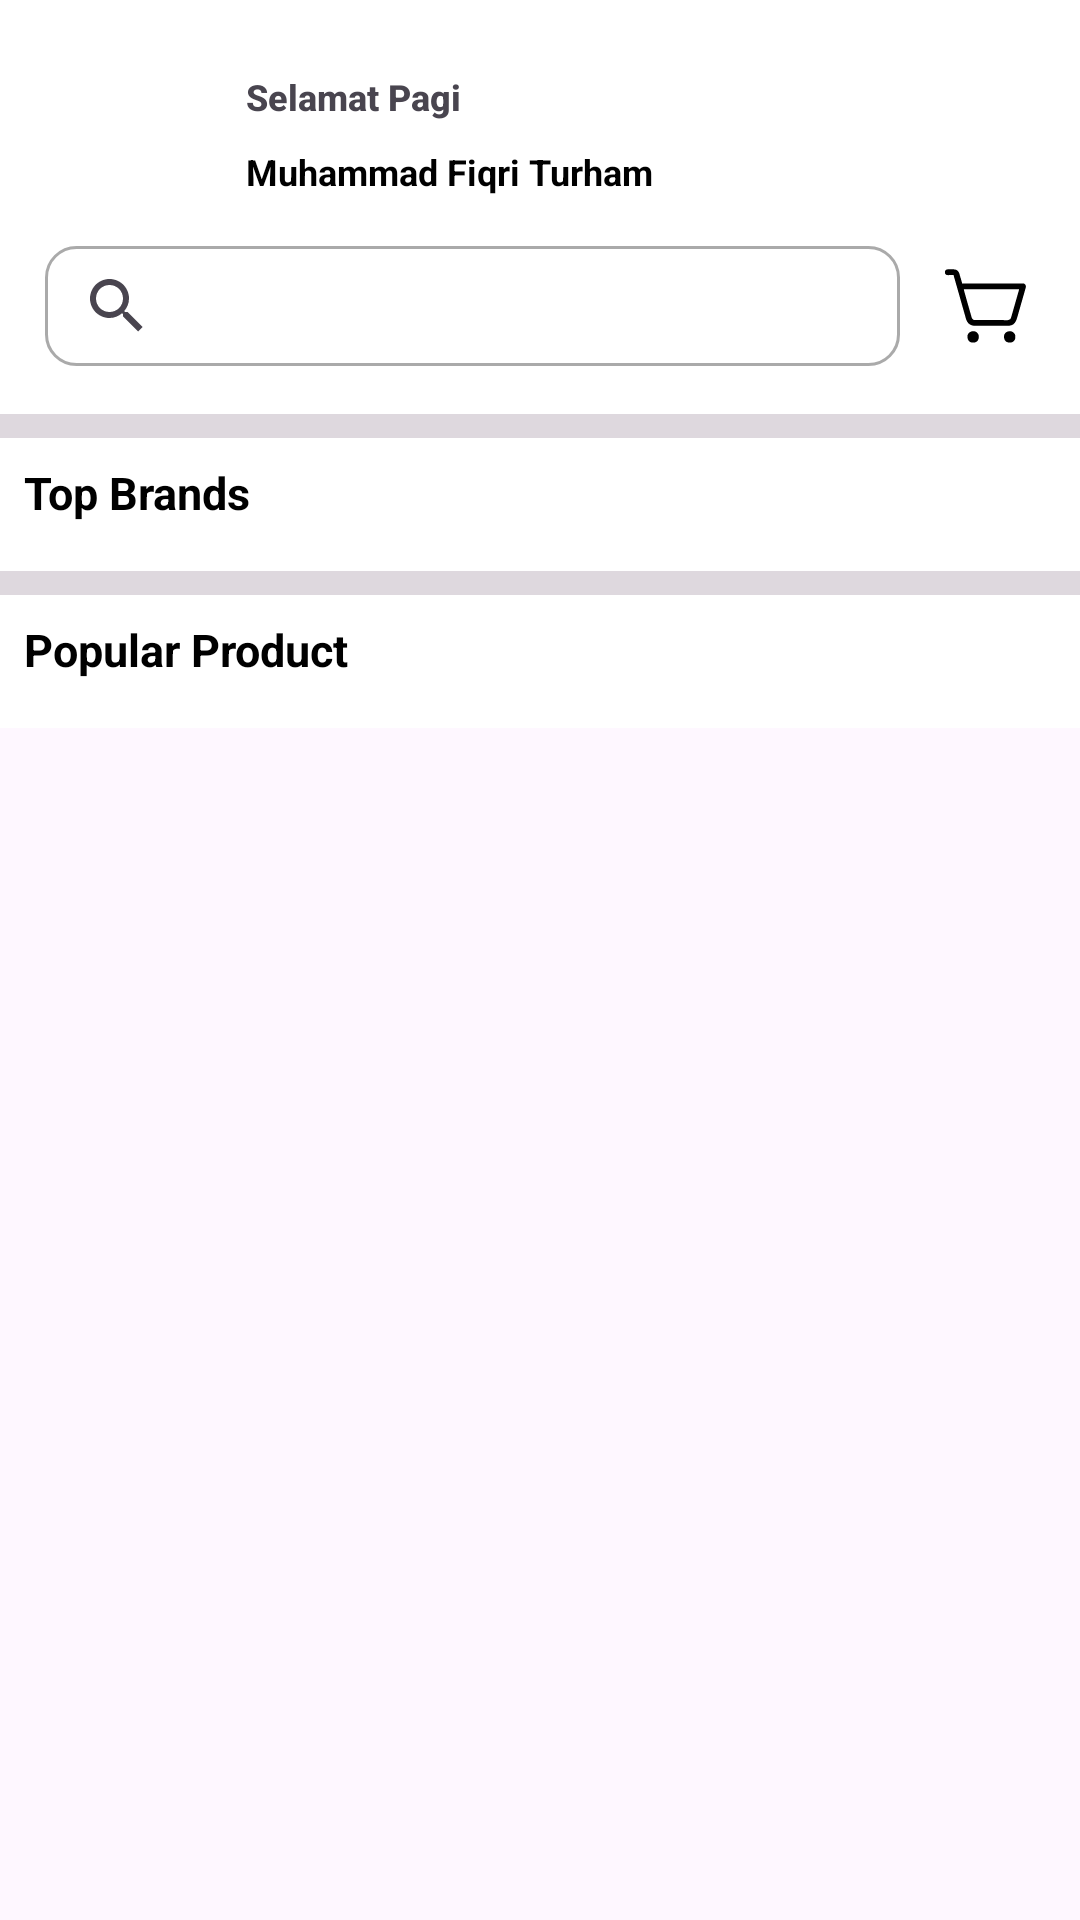

Locate icon controls on the screen. Image size 1080 × 1920, boxes as bbox(x1, y1, x2, y2).
cart: bbox(945, 269, 1026, 343)
